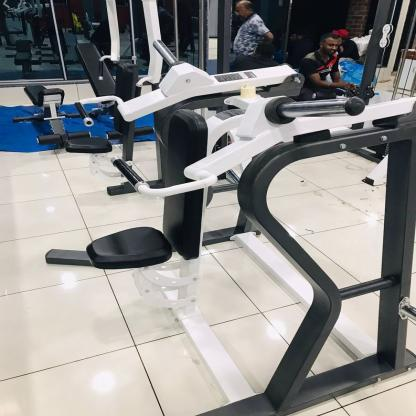shoulder press machine: (76, 39, 247, 320)
